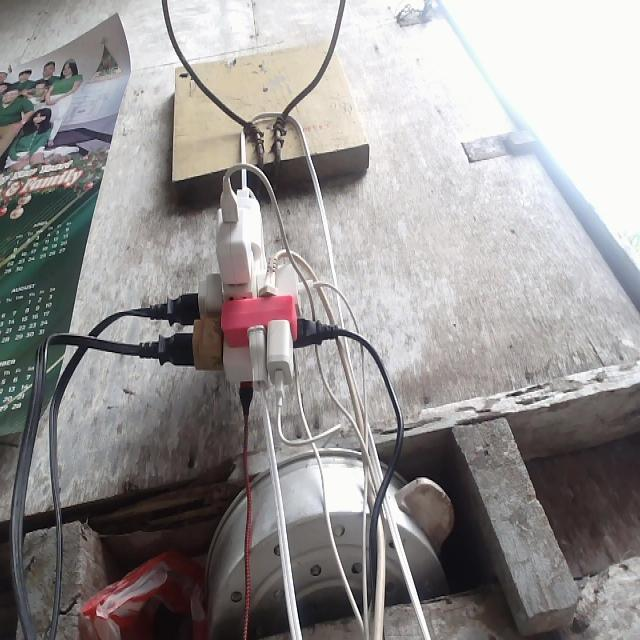-: (176, 175, 318, 422)
